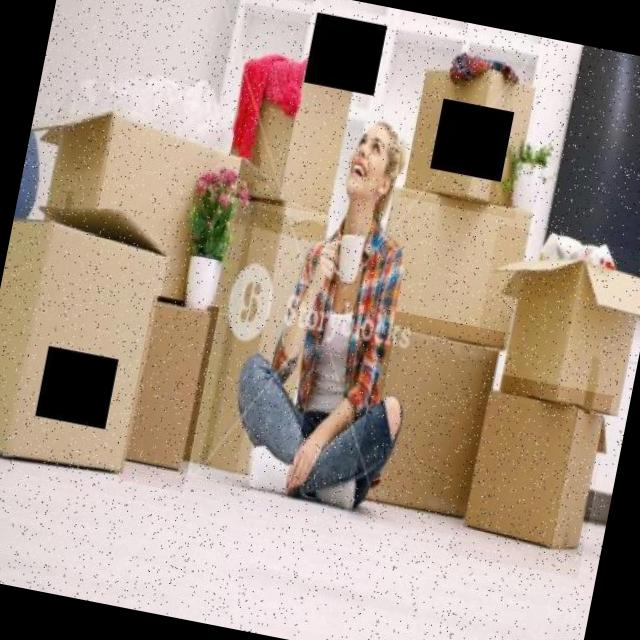box: (0, 191, 177, 494), (18, 98, 255, 316), (180, 197, 342, 495), (347, 309, 506, 541), (214, 4, 384, 216), (465, 224, 640, 429), (448, 371, 614, 578), (363, 182, 538, 358), (399, 48, 544, 220), (117, 294, 220, 493)
